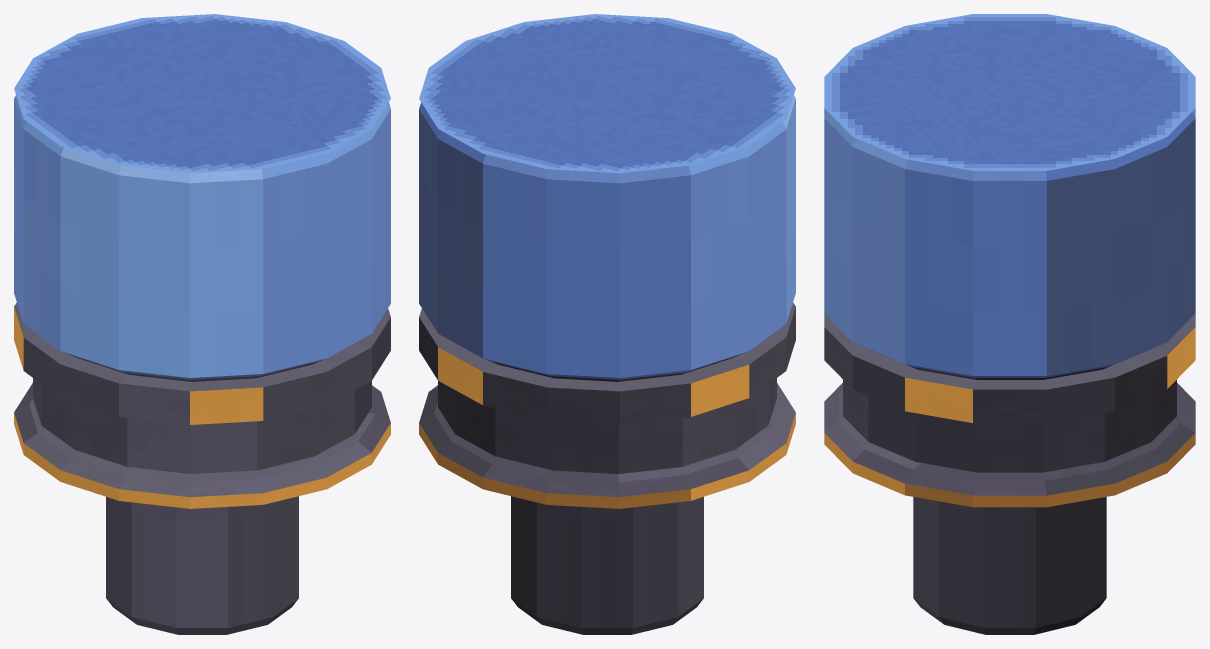
Rendered from rot_support.glb.
3 renders of one model, left to right at view 1: azimuth 30°, elevation 25°; view 2: azimuth 150°, elevation 25°; view 3: azimuth 270°, elevation 25°, orthographic.
Visible parts, largest first — view 1: rot_support_body, rot_support_stator, rot_support_sleeve, rot_support_foot; view 2: rot_support_body, rot_support_stator, rot_support_sleeve, rot_support_foot; view 3: rot_support_body, rot_support_stator, rot_support_sleeve, rot_support_foot.
Boxes of the visible parts, x1,y1,x2,y2 form: rot_support_body: (14, 14, 390, 381); rot_support_stator: (14, 302, 390, 473); rot_support_sleeve: (106, 496, 298, 634); rot_support_foot: (14, 383, 390, 508); rot_support_body: (419, 14, 795, 381); rot_support_stator: (419, 302, 795, 473); rot_support_sleeve: (511, 496, 703, 634); rot_support_foot: (419, 383, 795, 508); rot_support_body: (824, 14, 1195, 379); rot_support_stator: (824, 313, 1195, 472); rot_support_sleeve: (913, 497, 1106, 634); rot_support_foot: (824, 383, 1195, 507).
Size of the model in its own units: 1 by 1.5 by 1.
Materials: 1 (1 with a texture image).
